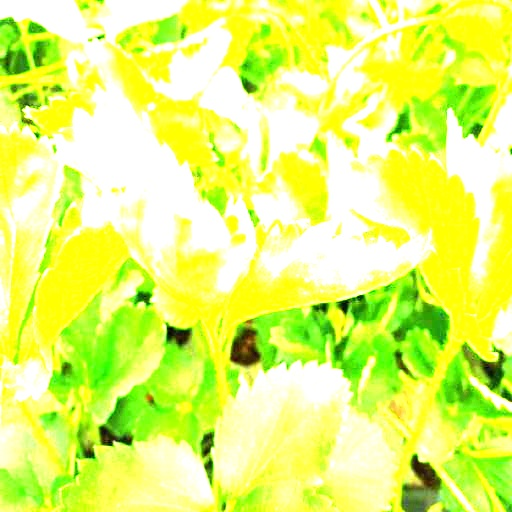Powdery Mildew Leaf: (219, 217, 438, 340), (94, 171, 256, 333), (22, 83, 206, 215)
